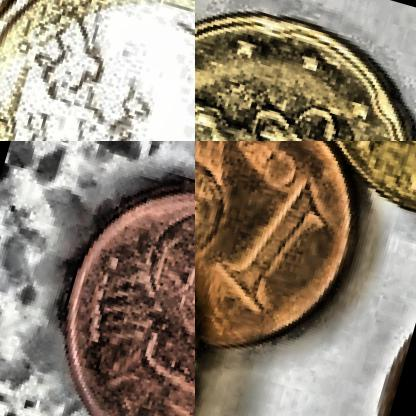coin: (195, 141, 385, 389), (25, 157, 194, 415), (195, 0, 415, 140), (0, 0, 194, 140)
